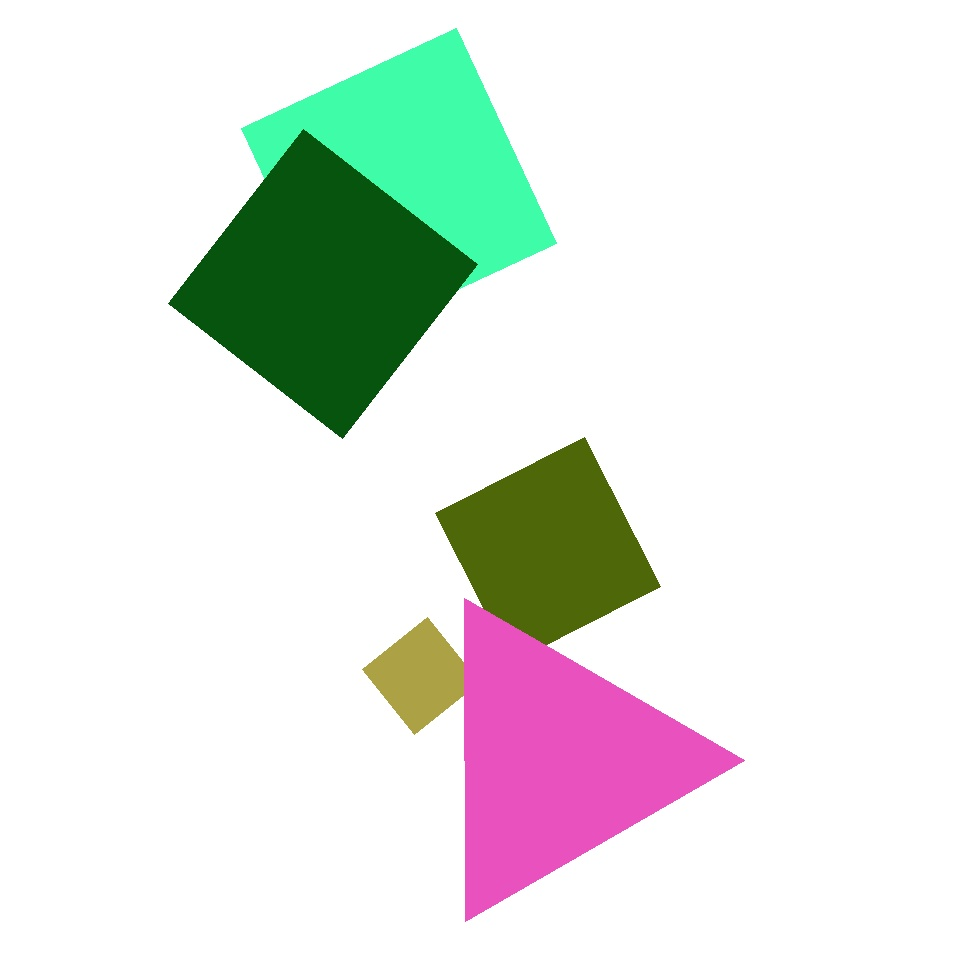circle: (418, 598, 698, 922), (400, 612, 660, 874)
square: (242, 29, 556, 344), (168, 130, 478, 438), (90, 584, 328, 822), (436, 437, 660, 662), (232, 678, 441, 886), (762, 107, 900, 244), (362, 618, 480, 734)
triangle: (90, 290, 253, 454)
